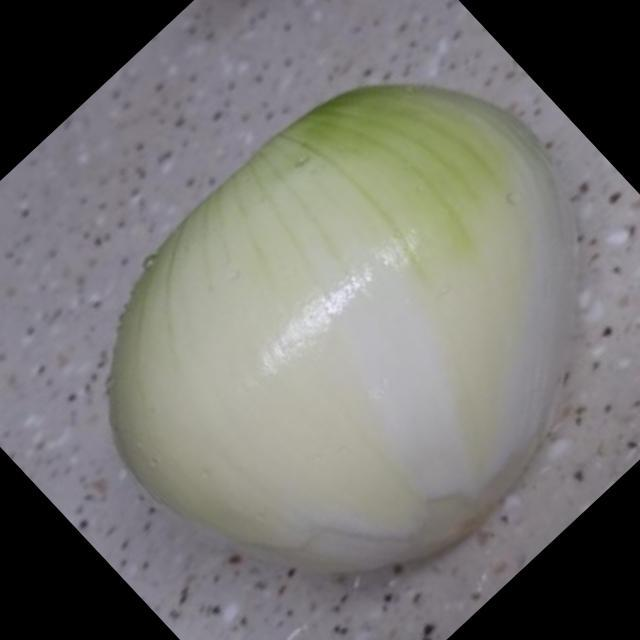Onion: (112, 86, 579, 562)
